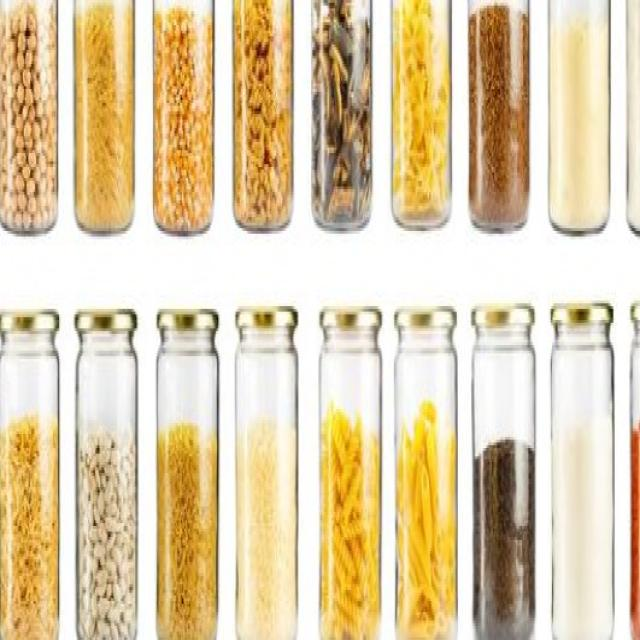electronic: (0, 299, 640, 640), (0, 0, 640, 235)
